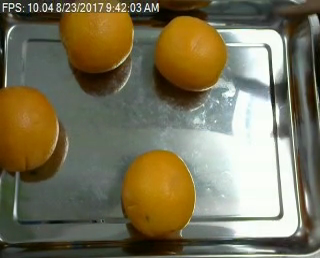Orange: (121, 149, 194, 235), (154, 15, 228, 91), (59, 1, 135, 72), (1, 85, 59, 170)
